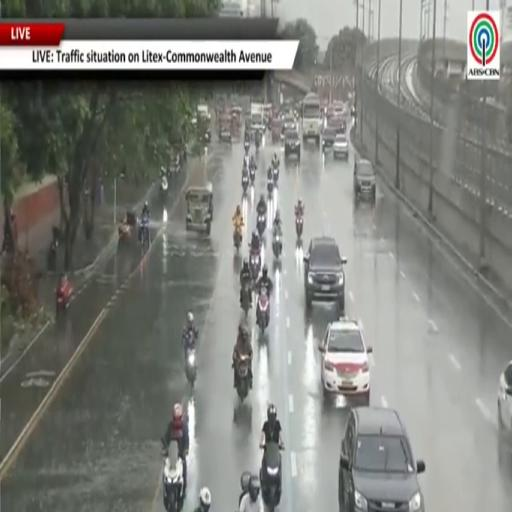bus: (302, 92, 322, 146)
car: (339, 407, 425, 511), (319, 318, 372, 405), (304, 236, 347, 313), (354, 157, 376, 203), (498, 361, 511, 437), (285, 130, 300, 158), (321, 125, 336, 151), (333, 135, 348, 159), (283, 112, 296, 132)
jeepney: (186, 183, 212, 235), (197, 104, 211, 143), (231, 106, 242, 137), (219, 114, 231, 142), (272, 118, 282, 142)
motorcycle: (162, 440, 185, 511), (260, 443, 283, 511), (236, 356, 250, 402), (118, 211, 136, 244), (256, 288, 269, 332), (56, 282, 72, 317), (239, 472, 251, 508), (186, 348, 196, 386), (249, 253, 261, 282), (47, 240, 58, 271), (241, 284, 251, 316), (273, 229, 282, 259), (140, 217, 149, 246), (256, 215, 266, 238), (295, 215, 303, 238), (234, 229, 242, 251), (161, 176, 168, 198), (242, 174, 249, 195), (273, 164, 279, 185), (249, 166, 255, 185), (255, 132, 261, 151), (243, 154, 250, 168), (267, 180, 273, 196), (244, 140, 250, 154)
truck: (251, 104, 264, 134)
